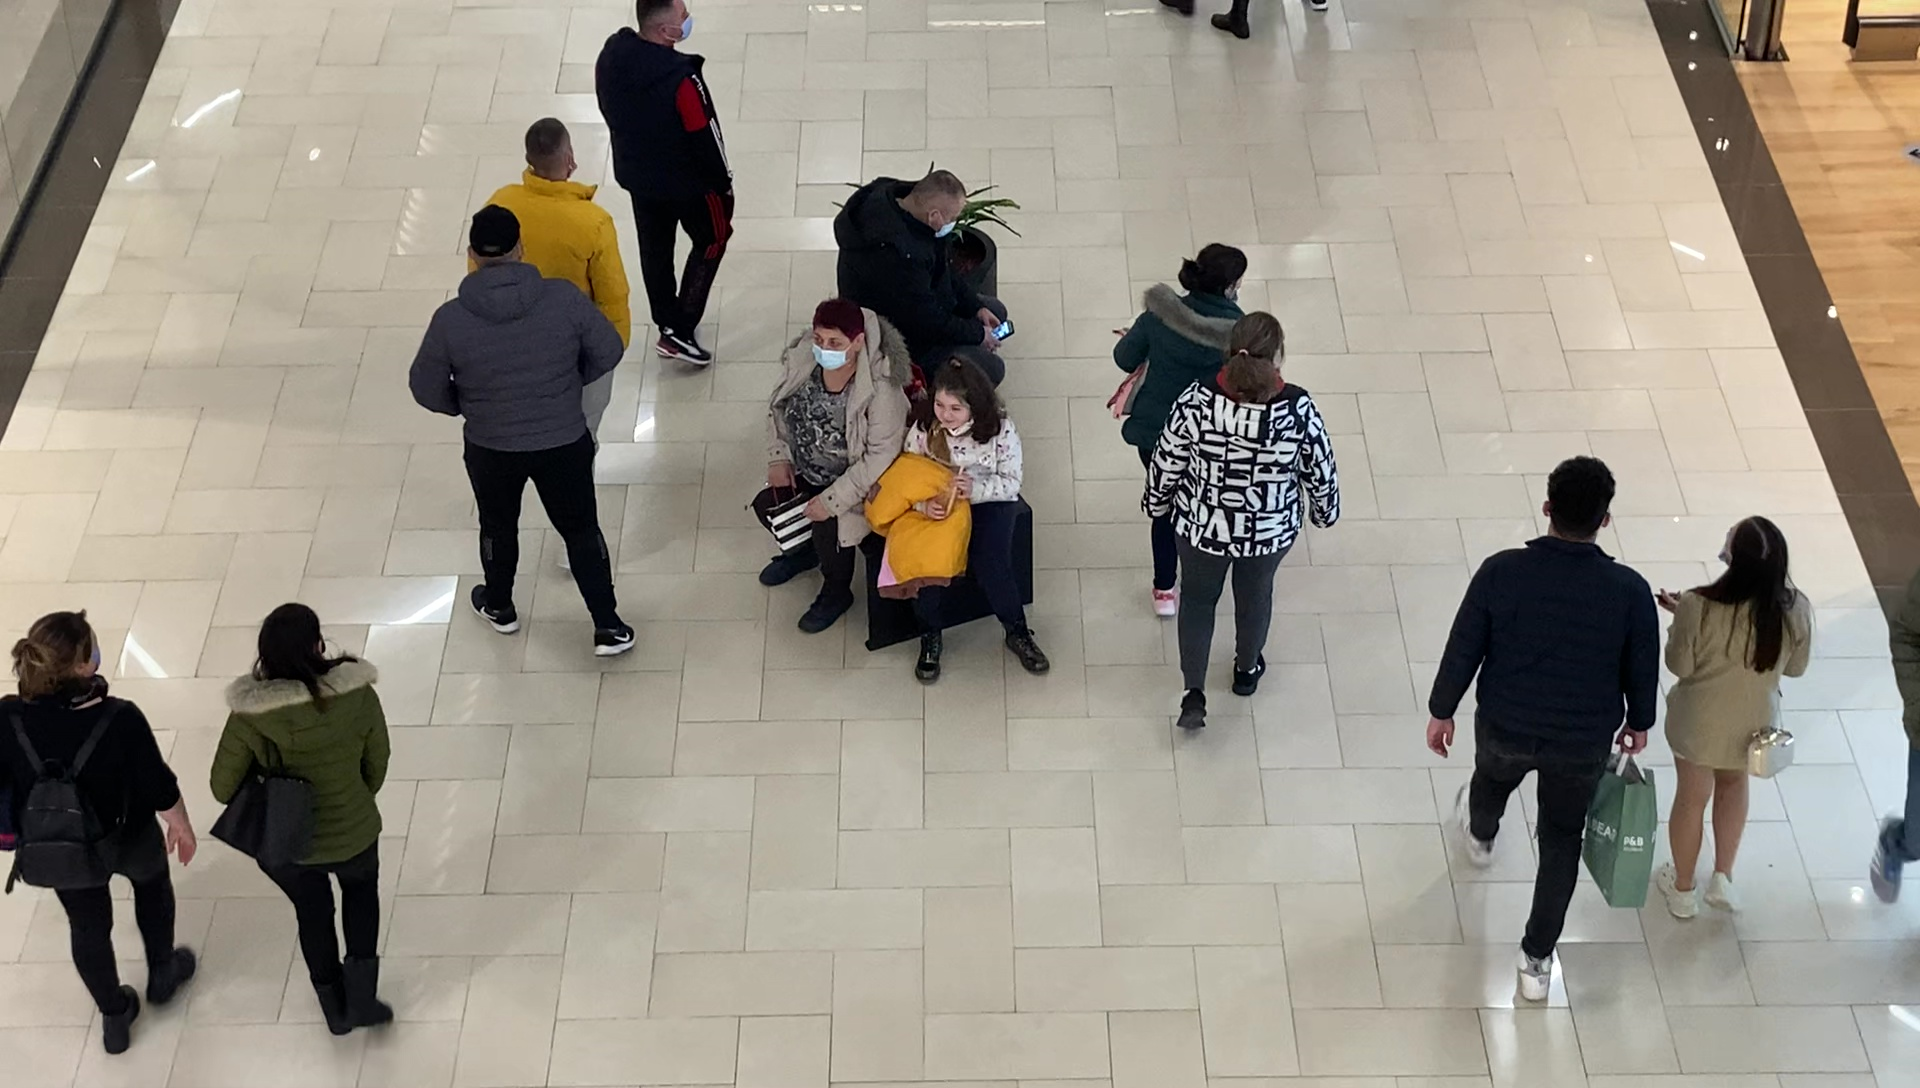person: (1431, 459, 1661, 1001), (411, 206, 636, 659), (2, 613, 200, 1057), (210, 603, 396, 1035), (1145, 311, 1339, 725), (1665, 515, 1812, 921), (594, 1, 740, 368)
